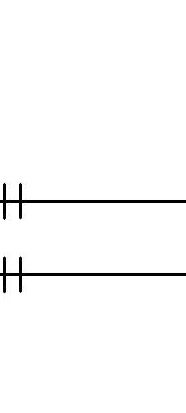115_buffer: (3, 183, 22, 220), (3, 256, 22, 293)
